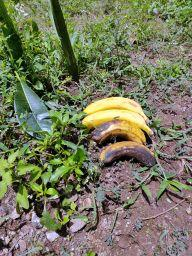banana: (80, 107, 156, 139), (81, 95, 151, 126), (96, 139, 158, 170), (88, 119, 149, 148)
